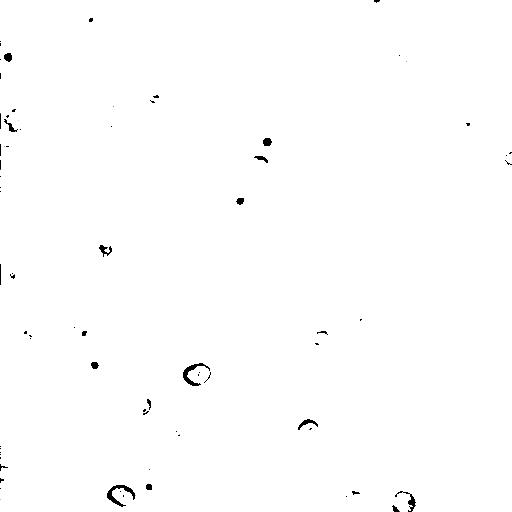micro-algae: (141, 320, 222, 399), (153, 394, 205, 446), (117, 169, 164, 213), (308, 275, 353, 320), (441, 276, 485, 321), (273, 366, 317, 407), (458, 312, 497, 349), (404, 190, 442, 226), (441, 0, 499, 21), (1, 101, 33, 135), (171, 327, 206, 357), (249, 124, 281, 156), (71, 311, 100, 345), (97, 102, 128, 132), (350, 308, 384, 335), (258, 183, 285, 213), (130, 469, 159, 496), (182, 362, 212, 387), (106, 484, 137, 507), (257, 130, 283, 155), (296, 418, 320, 445), (389, 489, 416, 512), (0, 142, 22, 170), (129, 166, 152, 192), (15, 327, 41, 350), (247, 154, 273, 177), (76, 7, 100, 31), (265, 97, 290, 120), (0, 47, 21, 73), (81, 355, 107, 375), (342, 489, 366, 510), (484, 114, 505, 138), (147, 442, 170, 463), (131, 395, 152, 416), (2, 264, 23, 284), (456, 119, 476, 138), (311, 330, 333, 347), (447, 72, 465, 90), (96, 240, 113, 258), (174, 421, 191, 439), (395, 49, 411, 68), (231, 195, 251, 208), (0, 465, 16, 481), (364, 0, 387, 10), (503, 150, 512, 167)
